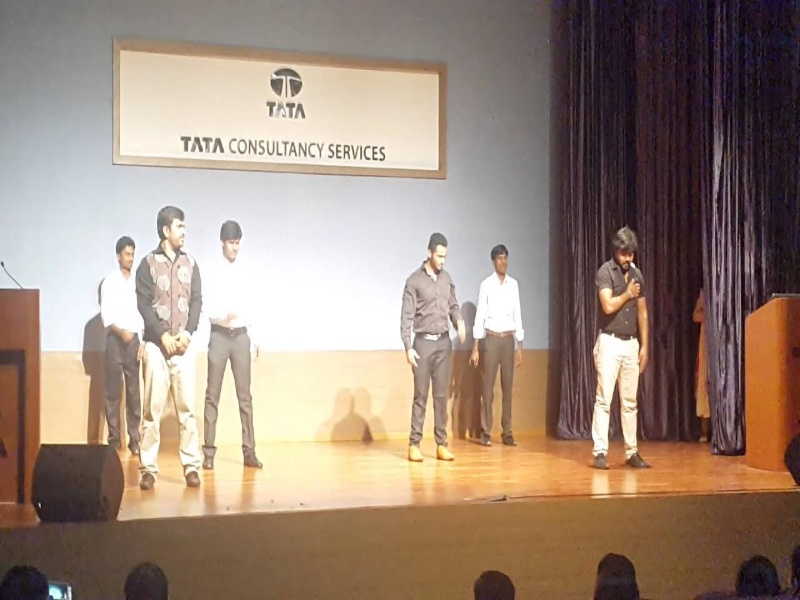tcs: (264, 62, 307, 103)
